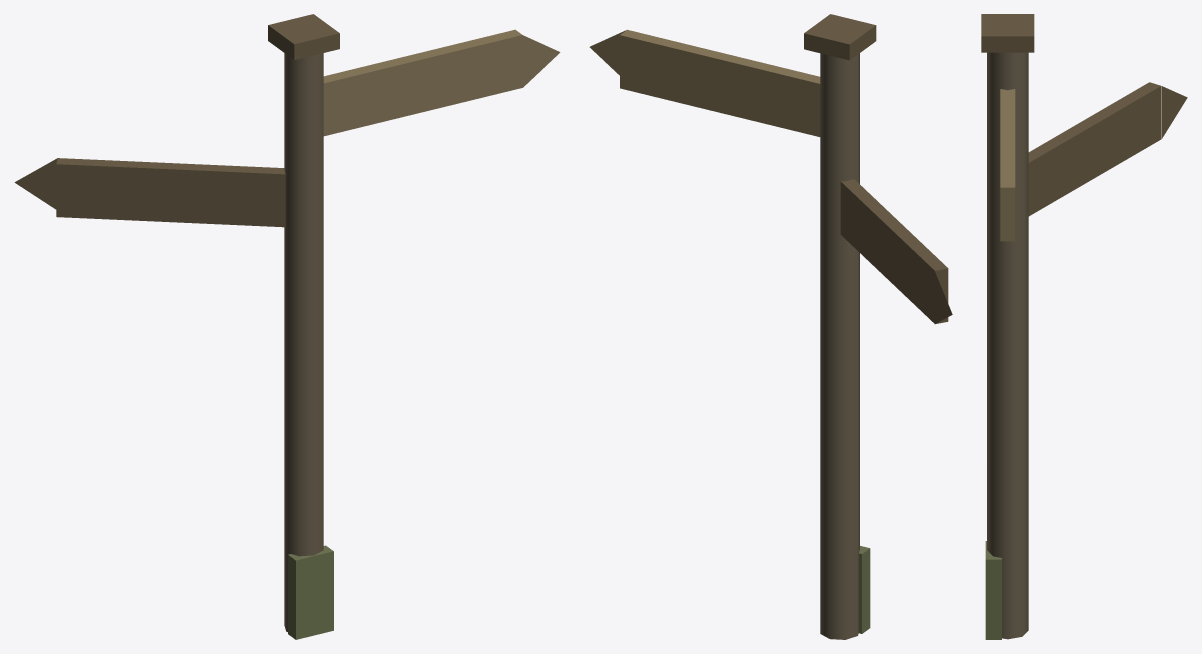
File: dorohovkaz.glb
3 views of the same model, side by side, from view 1: azimuth 30°, elevation 25°; view 2: azimuth 150°, elevation 25°; view 3: azimuth 270°, elevation 25° (orthographic).
Parts seen in each view (by area): view 1: arm (×2), post, moss, cap, arm_tip (×2); view 2: post, arm (×2), cap, arm_tip (×2), moss; view 3: post, arm (×2), cap, moss, arm_tip.
Part boxes in pixels (x1,y1,x2,y2): arm (×2): (56,29,522,227); post: (284,53,323,631); moss: (288,545,333,639); cap: (268,14,339,59); arm_tip (×2): (14,35,560,209); post: (820,53,859,639); arm (×2): (620,30,948,324); cap: (804,14,876,60); arm_tip (×2): (589,30,952,323); moss: (858,546,870,633); post: (987,52,1028,639); arm (×2): (1000,82,1161,241); cap: (981,14,1034,52); moss: (985,541,1001,639); arm_tip: (1161,86,1187,138).
Bounding box in the file's own units: 1.79 × 2.26 × 0.6988.
